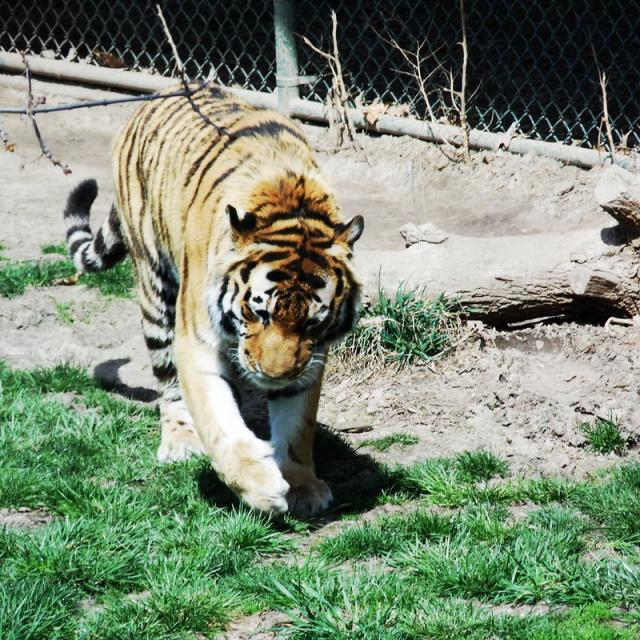Tiger: (62, 78, 366, 520)
